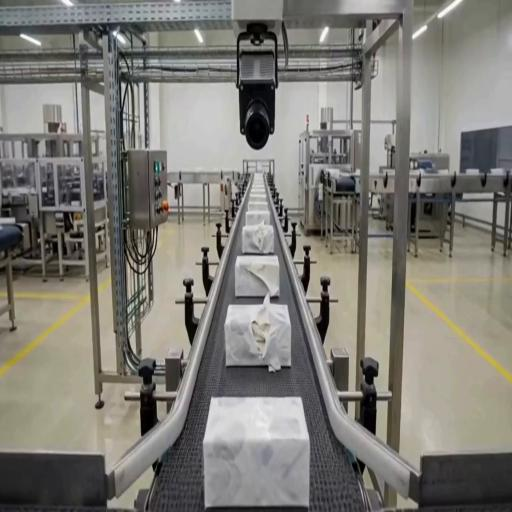defective: (225, 303, 291, 368), (234, 254, 280, 298), (242, 223, 274, 253)
good: (203, 397, 311, 510), (245, 209, 271, 224), (248, 200, 270, 208), (249, 193, 267, 199), (251, 188, 266, 193)
